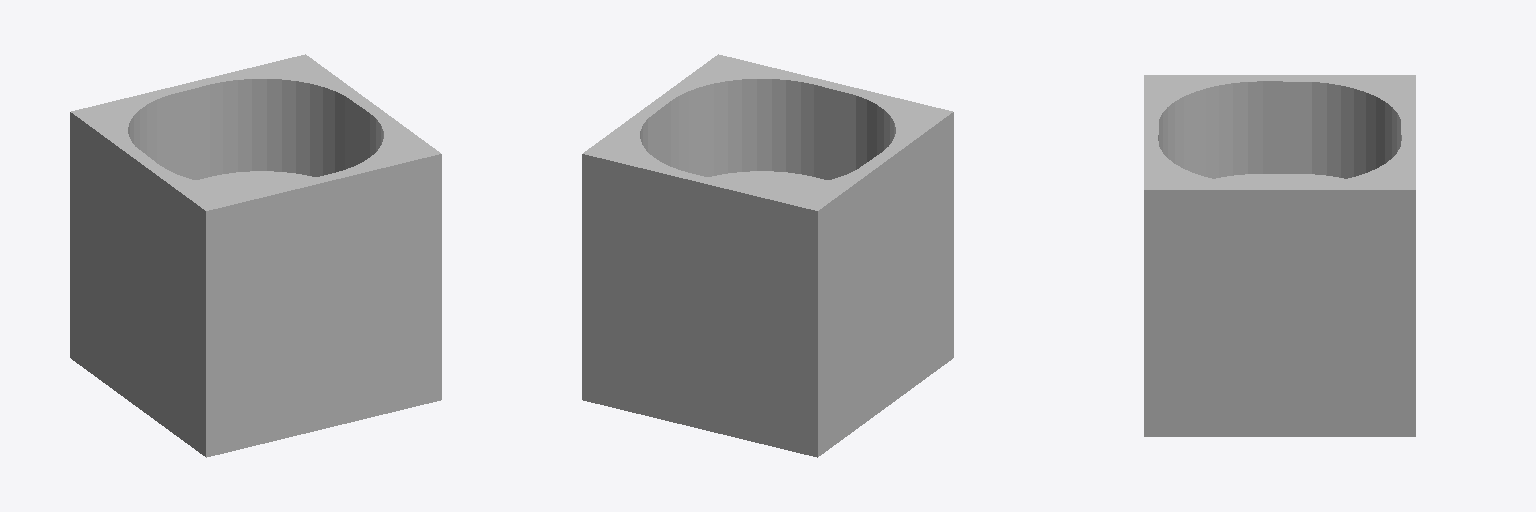
Rendered from Circle_cube_bottle_preprocessed.obj.
The picture shows the model from 3 angles: view 1: azimuth 30°, elevation 25°; view 2: azimuth 150°, elevation 25°; view 3: azimuth 270°, elevation 25°; orthographic projection.
Bounding box in the file's own units: 0.08 × 0.08 × 0.08.